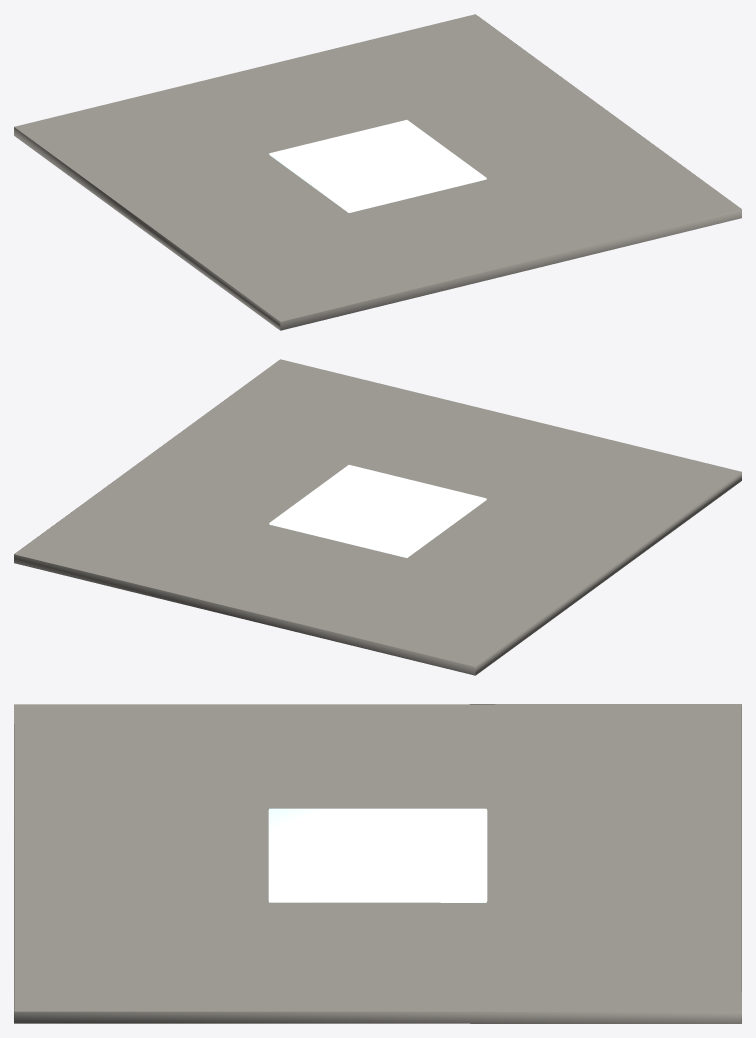
The model's file is SM_Kurpark_Plaza_LOD2.fbx.
3 views of the same model, one above another, from view 1: azimuth 30°, elevation 25°; view 2: azimuth 150°, elevation 25°; view 3: azimuth 270°, elevation 25° (orthographic). The views are drawn at different scales.
Parts seen in each view (by area): view 1: SM_Kurpark_Plaza_LOD2; view 2: SM_Kurpark_Plaza_LOD2; view 3: SM_Kurpark_Plaza_LOD2.
Boxes of the visible parts, bbox=[...] form: SM_Kurpark_Plaza_LOD2: bbox=[14, 14, 741, 330]; SM_Kurpark_Plaza_LOD2: bbox=[14, 359, 741, 675]; SM_Kurpark_Plaza_LOD2: bbox=[14, 704, 741, 1023].
Size of the model in its own units: 4 by 0.0949 by 4.
